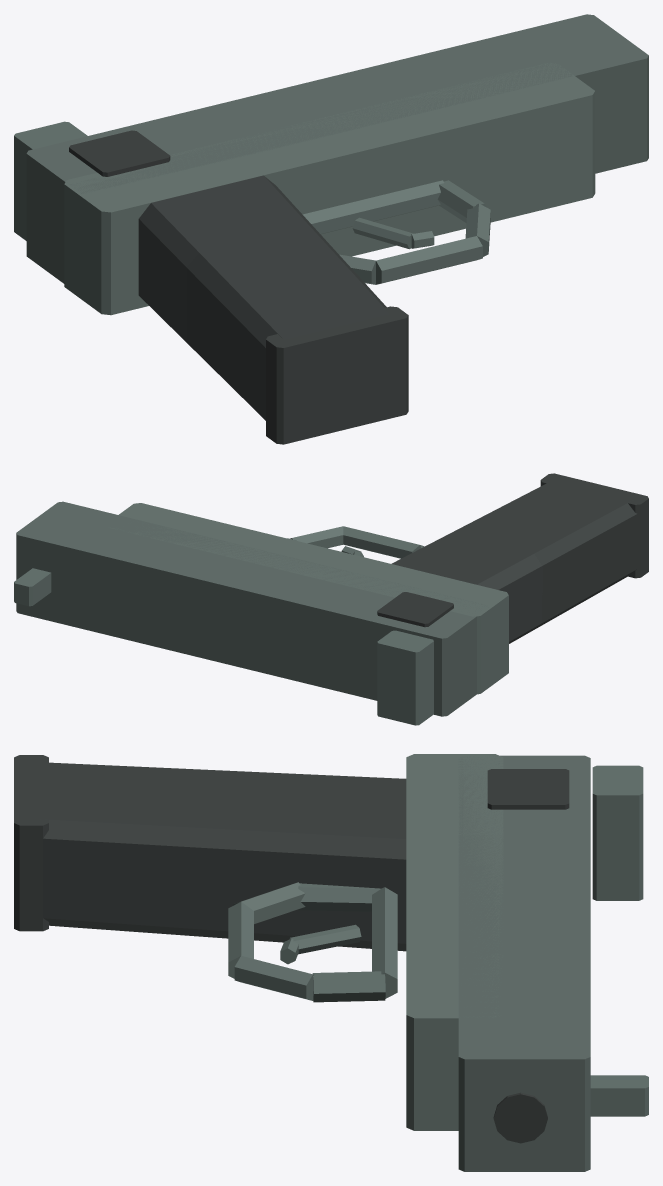
The model's file is weapon-glock-19.glb.
3 views of the same model, one above another, from view 1: azimuth 30°, elevation 25°; view 2: azimuth 150°, elevation 25°; view 3: azimuth 270°, elevation 25° (orthographic). The views are drawn at different scales.
Visible parts, largest first — view 1: weapon-glock-19/lower-frame, weapon-glock-19/flat-slide, weapon-glock-19/eight-sided-grip, weapon-glock-19/eight-sided-grip-heel, weapon-glock-19/hollow-trigger-guard-1, weapon-glock-19/slide-rear-serrations-left, weapon-glock-19/hollow-trigger-guard-4, weapon-glock-19/rear-sight, weapon-glock-19/hollow-trigger-guard-2, weapon-glock-19/hollow-trigger-guard-trigger-1, weapon-glock-19/hollow-trigger-guard-3, weapon-glock-19/hollow-trigger-guard-5; view 2: weapon-glock-19/flat-slide, weapon-glock-19/eight-sided-grip, weapon-glock-19/lower-frame, weapon-glock-19/rear-sight, weapon-glock-19/eight-sided-grip-heel, weapon-glock-19/slide-rear-serrations-left, weapon-glock-19/hollow-trigger-guard-4, weapon-glock-19/front-sight, weapon-glock-19/hollow-trigger-guard-3; view 3: weapon-glock-19/eight-sided-grip, weapon-glock-19/flat-slide, weapon-glock-19/lower-frame, weapon-glock-19/rear-sight, weapon-glock-19/eight-sided-grip-heel, weapon-glock-19/slide-rear-serrations-left, weapon-glock-19/front-sight, weapon-glock-19/hollow-trigger-guard-1, weapon-glock-19/hollow-trigger-guard-2, weapon-glock-19/muzzle-dark-disc, weapon-glock-19/hollow-trigger-guard-3, weapon-glock-19/hollow-trigger-guard-6 (+3 smaller).
Part boxes in pixels (x1=…): weapon-glock-19/lower-frame: x1=64, y1=63, x2=595, y2=315; weapon-glock-19/flat-slide: x1=26, y1=14, x2=648, y2=283; weapon-glock-19/eight-sided-grip: x1=138, y1=175, x2=389, y2=420; weapon-glock-19/eight-sided-grip-heel: x1=266, y1=306, x2=408, y2=444; weapon-glock-19/hollow-trigger-guard-1: x1=302, y1=180, x2=444, y2=234; weapon-glock-19/slide-rear-serrations-left: x1=69, y1=130, x2=170, y2=176; weapon-glock-19/hollow-trigger-guard-4: x1=376, y1=236, x2=482, y2=284; weapon-glock-19/rear-sight: x1=14, y1=121, x2=87, y2=240; weapon-glock-19/hollow-trigger-guard-2: x1=437, y1=180, x2=486, y2=222; weapon-glock-19/hollow-trigger-guard-trigger-1: x1=352, y1=217, x2=413, y2=249; weapon-glock-19/hollow-trigger-guard-3: x1=465, y1=203, x2=490, y2=256; weapon-glock-19/hollow-trigger-guard-5: x1=339, y1=254, x2=375, y2=284; weapon-glock-19/flat-slide: x1=16, y1=501, x2=488, y2=716; weapon-glock-19/eight-sided-grip: x1=391, y1=479, x2=637, y2=643; weapon-glock-19/lower-frame: x1=110, y1=503, x2=508, y2=694; weapon-glock-19/rear-sight: x1=377, y1=630, x2=433, y2=725; weapon-glock-19/eight-sided-grip-heel: x1=540, y1=473, x2=648, y2=578; weapon-glock-19/slide-rear-serrations-left: x1=377, y1=592, x2=453, y2=627; weapon-glock-19/hollow-trigger-guard-4: x1=343, y1=526, x2=424, y2=558; weapon-glock-19/front-sight: x1=14, y1=568, x2=51, y2=606; weapon-glock-19/hollow-trigger-guard-3: x1=290, y1=526, x2=343, y2=548; weapon-glock-19/eight-sided-grip: x1=31, y1=762, x2=406, y2=951; weapon-glock-19/flat-slide: x1=458, y1=755, x2=590, y2=1171; weapon-glock-19/lower-frame: x1=406, y1=754, x2=503, y2=1130; weapon-glock-19/rear-sight: x1=592, y1=765, x2=643, y2=900; weapon-glock-19/eight-sided-grip-heel: x1=14, y1=755, x2=48, y2=931; weapon-glock-19/slide-rear-serrations-left: x1=487, y1=769, x2=569, y2=809; weapon-glock-19/front-sight: x1=590, y1=1075, x2=648, y2=1116; weapon-glock-19/hollow-trigger-guard-1: x1=372, y1=887, x2=397, y2=998; weapon-glock-19/hollow-trigger-guard-2: x1=312, y1=971, x2=385, y2=1002; weapon-glock-19/muzzle-dark-disc: x1=493, y1=1092, x2=547, y2=1143; weapon-glock-19/hollow-trigger-guard-3: x1=234, y1=955, x2=314, y2=1000; weapon-glock-19/hollow-trigger-guard-6: x1=298, y1=883, x2=380, y2=911.
Bounding box in the file's own units: 0.1895 × 0.0348 × 0.1635.
Materials: 2 (2 with a texture image).
